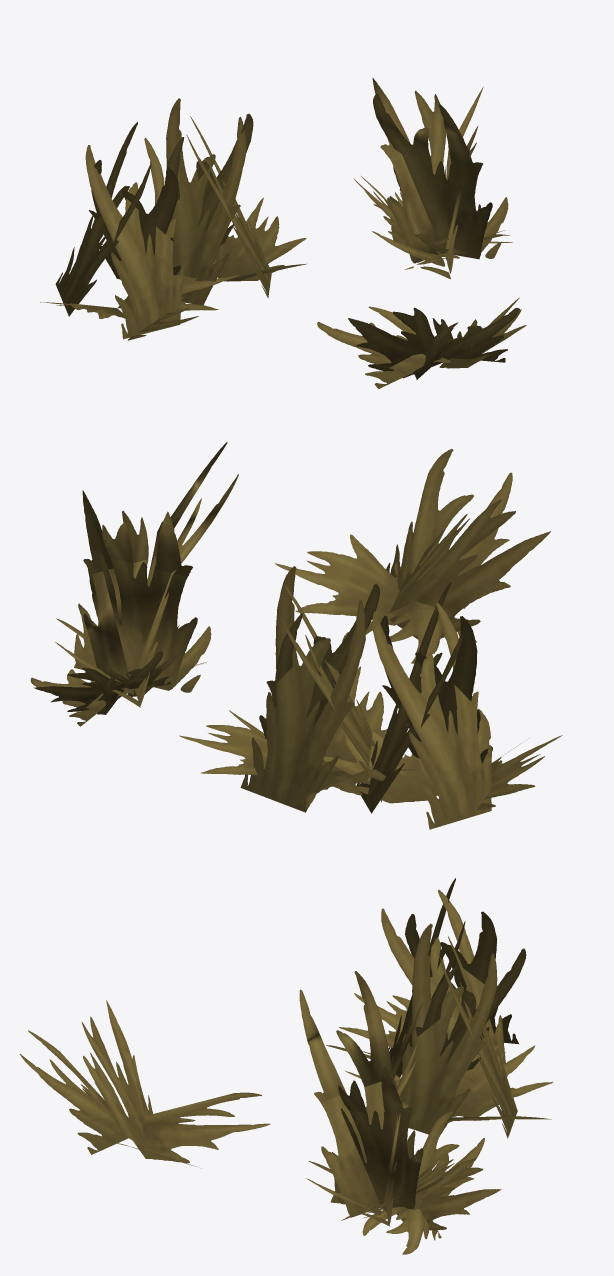
File: cao5.fbx
3 renders of one model, top to bottom at view 1: azimuth 30°, elevation 25°; view 2: azimuth 150°, elevation 25°; view 3: azimuth 270°, elevation 25°, orthographic. The views are drawn at different scales.
Visible parts, largest first — view 1: cao5; view 2: cao5; view 3: cao5.
Part boxes in pixels (x1,y1,x2,y2): cao5: (40, 78, 526, 388); cao5: (30, 442, 562, 829); cao5: (20, 878, 553, 1254).
Bounding box in the file's own units: 474 × 209 × 458.
